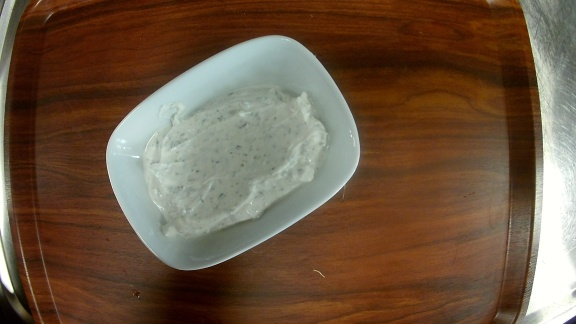haydari: (107, 34, 362, 270)
